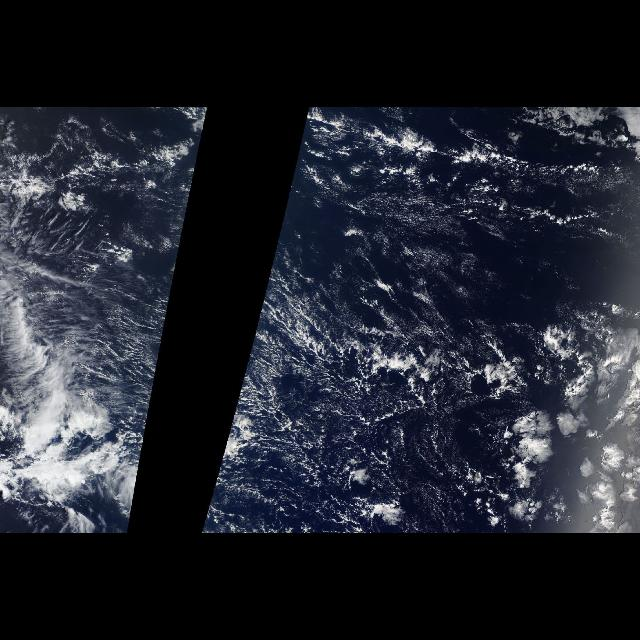Flower: (454, 326, 640, 534)
Sugar: (250, 192, 502, 442), (71, 274, 167, 448)
